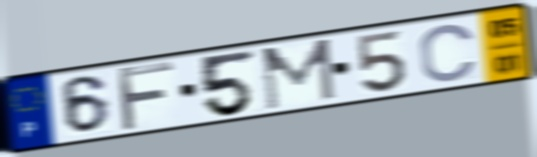5: (196, 48, 258, 119), (353, 28, 409, 93)
6: (58, 74, 113, 137)
C: (417, 22, 480, 84)
F: (114, 60, 178, 134)
M: (259, 35, 339, 113)
